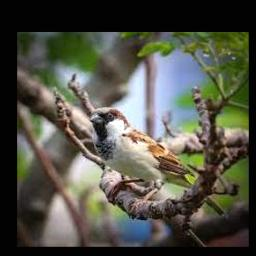Sparrow: (90, 107, 194, 209)
